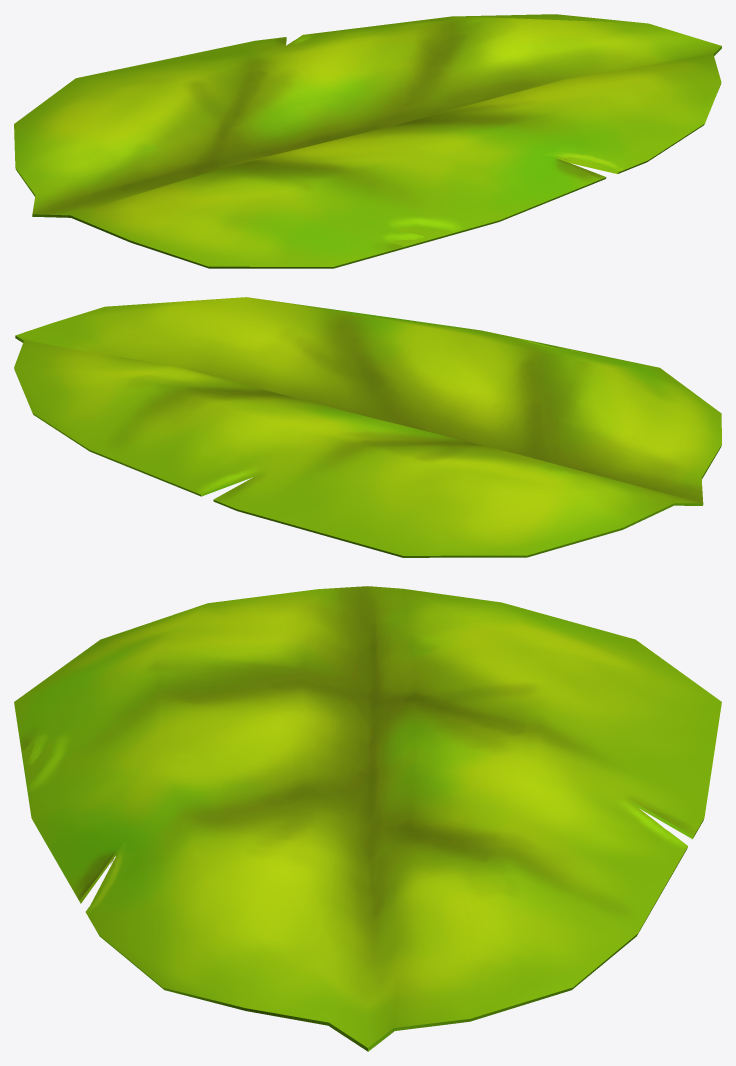
The model's file is leaf.fbx.
The picture shows the model from 3 angles, top to bottom: view 1: azimuth 30°, elevation 25°; view 2: azimuth 150°, elevation 25°; view 3: azimuth 270°, elevation 25°; orthographic projection. The views are drawn at different scales.
Visible parts, largest first — view 1: leaf; view 2: leaf; view 3: leaf.
Boxes of the visible parts, x1=… form: leaf: x1=14, y1=14, x2=721, y2=268; leaf: x1=14, y1=297, x2=721, y2=557; leaf: x1=14, y1=586, x2=721, y2=1051.
Size of the model in its own units: 1.52 by 0.0846 by 0.9836.
